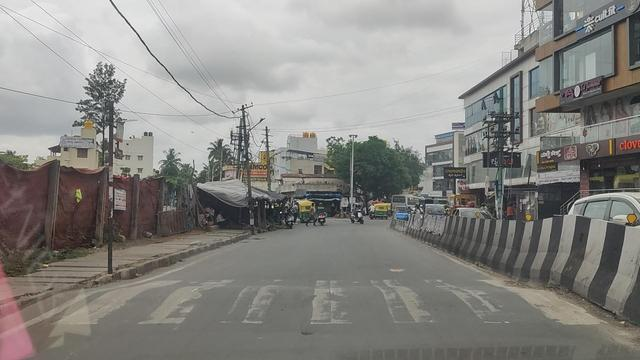SpeedBump: (97, 280, 583, 328)
